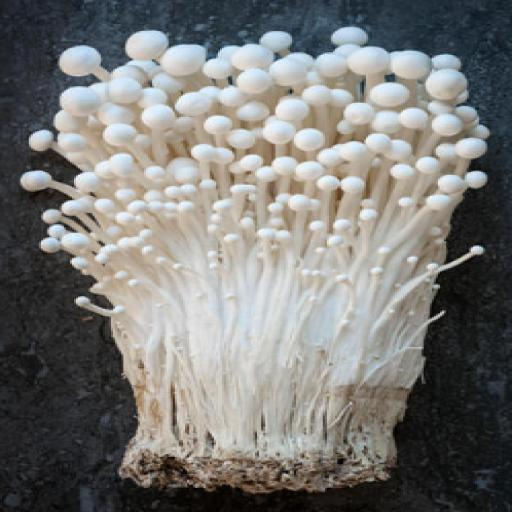Enoki Mushroom: (13, 19, 496, 498)
